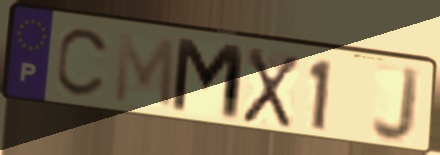1: (305, 56, 336, 133)
C: (52, 27, 113, 102)
J: (368, 64, 424, 147)
M: (168, 35, 248, 126), (111, 31, 177, 114)
X: (238, 44, 302, 131)
